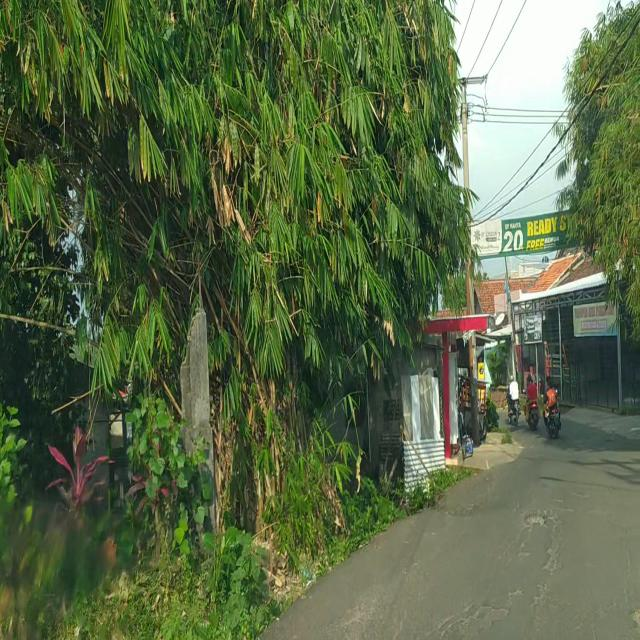Drain Hole: (427, 503, 562, 638), (437, 484, 491, 518)
